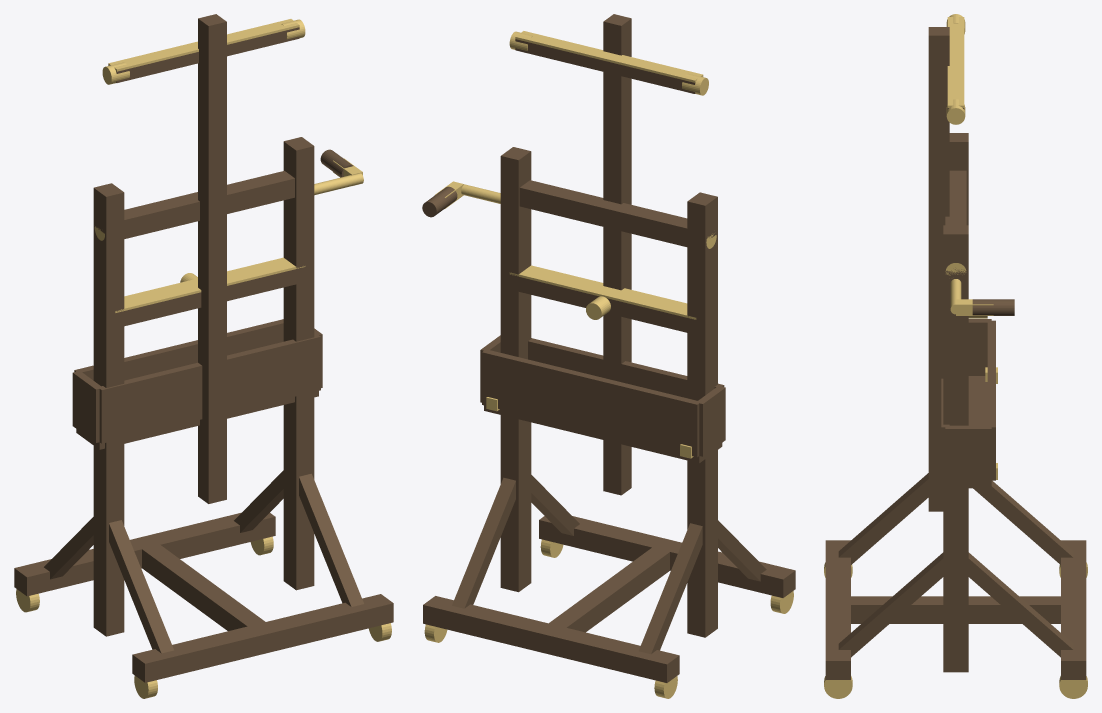
File: 01_artist_easel.fbx
The picture shows the model from 3 angles, left to right: view 1: azimuth 30°, elevation 25°; view 2: azimuth 150°, elevation 25°; view 3: azimuth 270°, elevation 25°; orthographic projection.
Parts seen in each view (by area): view 1: Mast_Center, Mast_L, Tray_Back, Mast_R, Runner_Back, Runner_Front, TopBar, Stretcher, Tray_Front, Brace_R_B, Brace_L_B, Ledge (+7 smaller); view 2: Tray_Front, Mast_L, Mast_R, Mast_Center, Runner_Front, Runner_Back, TopBar, Stretcher, Tray_Back, Brace_L_F, Brace_R_F, Ledge (+8 smaller); view 3: Mast_R, Mast_Center, Stretcher, Runner_Back, Runner_Front, Tray_Right, Brace_R_B, Brace_R_F, Brace_L_B, Brace_L_F, TopClamp_Brass, Tray_Bottom (+8 smaller).
Boxes of the visible parts, bbox=[...] form: Mast_Center: bbox=[198, 14, 226, 503]; Mast_L: bbox=[93, 183, 124, 636]; Tray_Back: bbox=[99, 333, 320, 443]; Mast_R: bbox=[283, 137, 314, 590]; Runner_Back: bbox=[132, 594, 393, 682]; Runner_Front: bbox=[14, 512, 275, 596]; TopBar: bbox=[124, 171, 294, 238]; Stretcher: bbox=[136, 540, 271, 630]; Tray_Front: bbox=[74, 319, 283, 380]; Brace_R_B: bbox=[299, 473, 363, 606]; Brace_L_B: bbox=[109, 520, 173, 653]; Ledge: bbox=[115, 267, 305, 328]; Tray_Front: bbox=[482, 349, 699, 457]; Mast_L: bbox=[687, 192, 717, 637]; Mast_R: bbox=[500, 147, 531, 592]; Mast_Center: bbox=[603, 14, 631, 495]; Runner_Front: bbox=[423, 596, 679, 682]; Runner_Back: bbox=[539, 516, 795, 597]; TopBar: bbox=[519, 180, 687, 246]; Stretcher: bbox=[543, 547, 669, 632]; Tray_Back: bbox=[528, 338, 724, 397]; Brace_L_F: bbox=[638, 523, 702, 654]; Brace_R_F: bbox=[452, 477, 515, 608]; Ledge: bbox=[509, 275, 696, 334]; Mast_R: bbox=[943, 225, 968, 672]; Mast_Center: bbox=[928, 27, 949, 511]; Stretcher: bbox=[845, 596, 1073, 623]; Runner_Back: bbox=[825, 540, 850, 679]; Runner_Front: bbox=[1061, 540, 1086, 679]; Tray_Right: bbox=[945, 425, 991, 482]; Brace_R_B: bbox=[838, 552, 943, 657]; Brace_R_F: bbox=[968, 552, 1073, 657]; Brace_L_B: bbox=[838, 473, 928, 564]; Brace_L_F: bbox=[973, 480, 1073, 564]; TopClamp_Brass: bbox=[947, 17, 964, 107]; Tray_Bottom: bbox=[945, 376, 991, 488].
Bounding box in the file's own units: 78 × 160 × 62.8.
